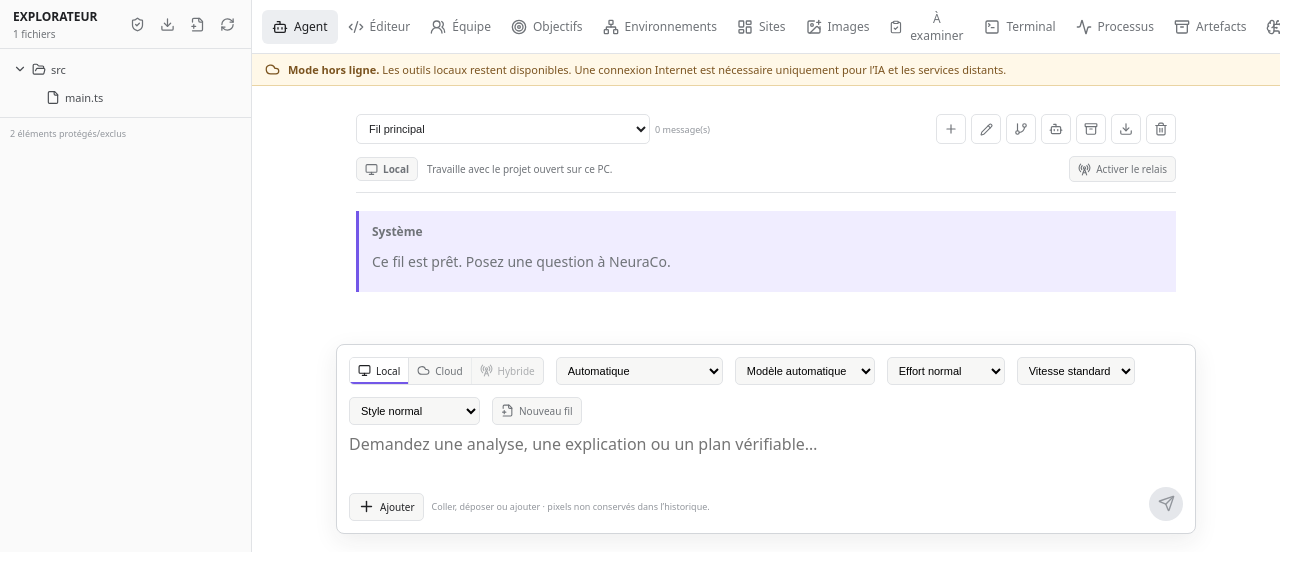
it: NeuraCo project workspace › keeps local project tools available while remote AI is offline
The image size is (1292, 569).
Expected: the button with class "agent-send" is disabled, top-left (1149, 487), bottom-right (1183, 521)
Click the button "Éditeur".
click(379, 26)  # box top-left (338, 10), bottom-right (420, 44)
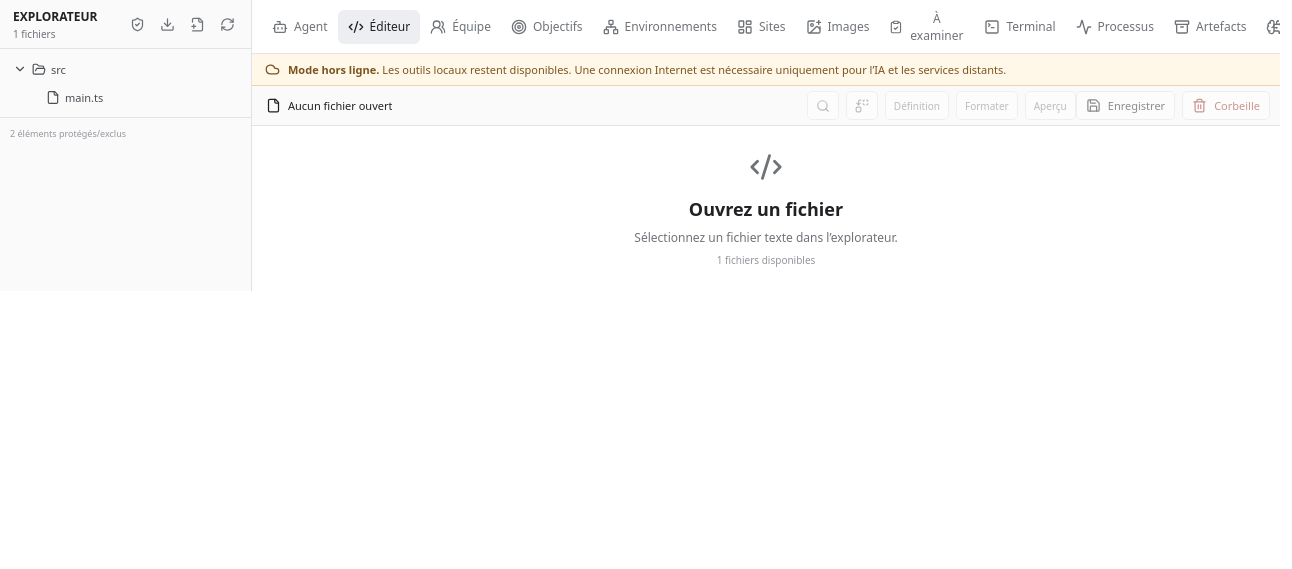
Expected: the element with class "editor-view" is shown, top-left (252, 86), bottom-right (1280, 291)
